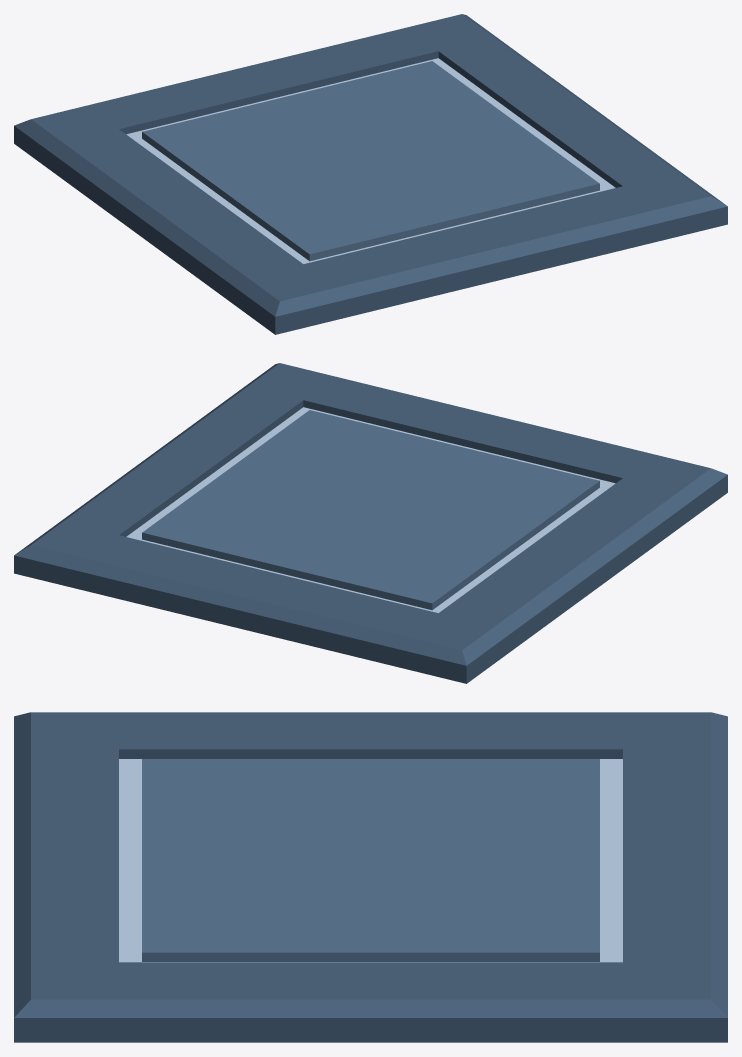
Rendered from BLUE_TILE.fbx.
3 renders of one model, top to bottom at view 1: azimuth 30°, elevation 25°; view 2: azimuth 150°, elevation 25°; view 3: azimuth 270°, elevation 25°, orthographic. The views are drawn at different scales.
Visible parts, largest first — view 1: pCube1; view 2: pCube1; view 3: pCube1.
Part boxes in pixels (x1,y1,x2,y2): pCube1: [14, 14, 727, 334]; pCube1: [14, 363, 727, 683]; pCube1: [14, 712, 727, 1042].
Bounding box in the file's own units: 8 × 0.4456 × 8.
1 material, 1 textured.
